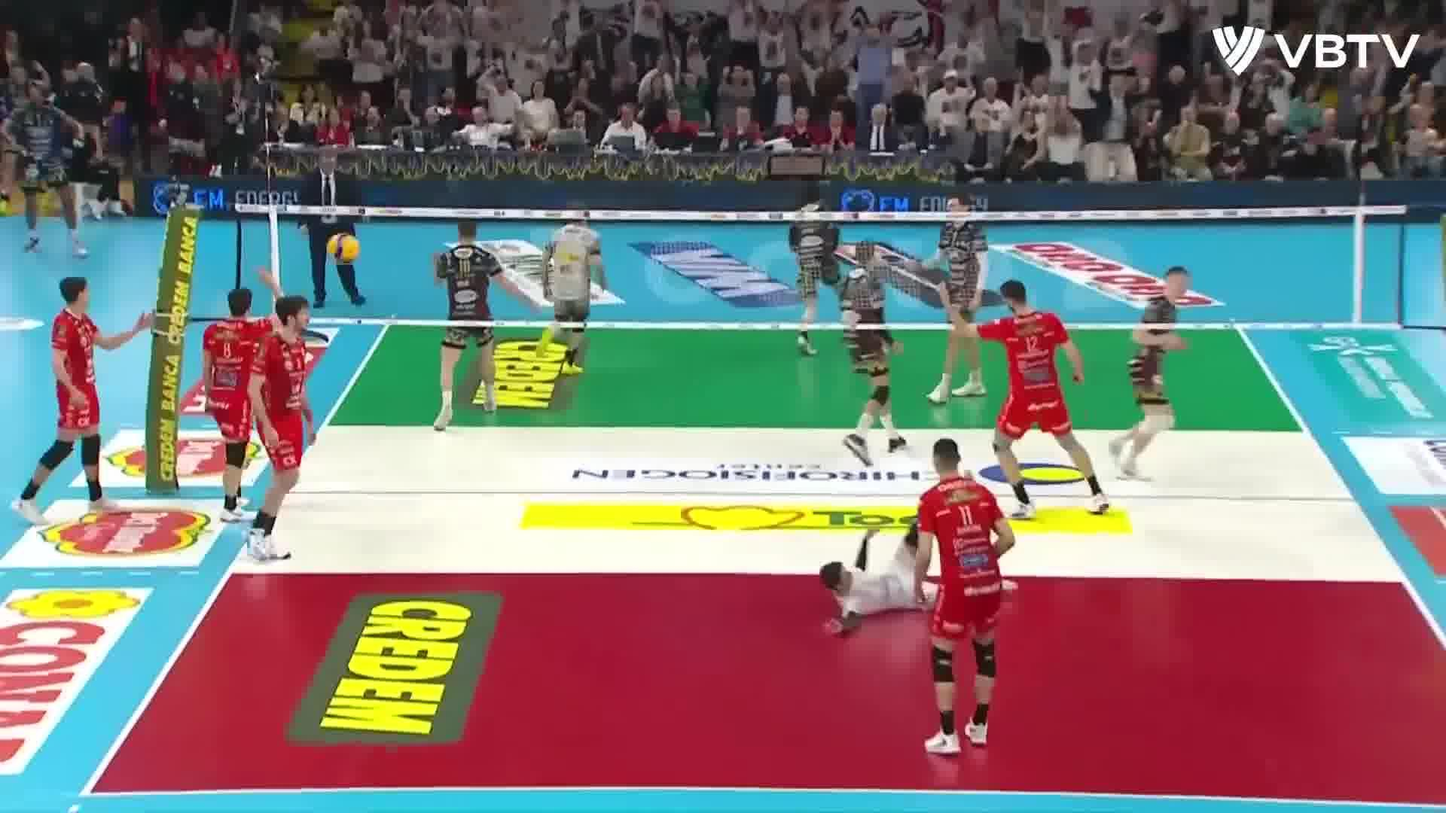balls: (328, 232, 361, 266)
